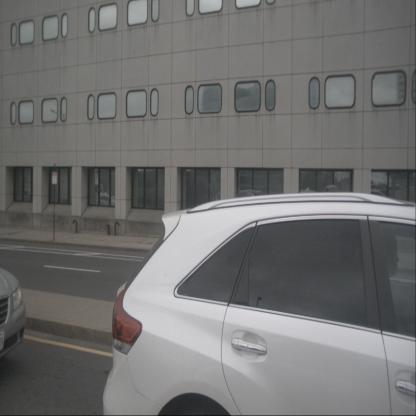vehicle-car: (102, 192, 416, 416), (94, 190, 118, 214)
